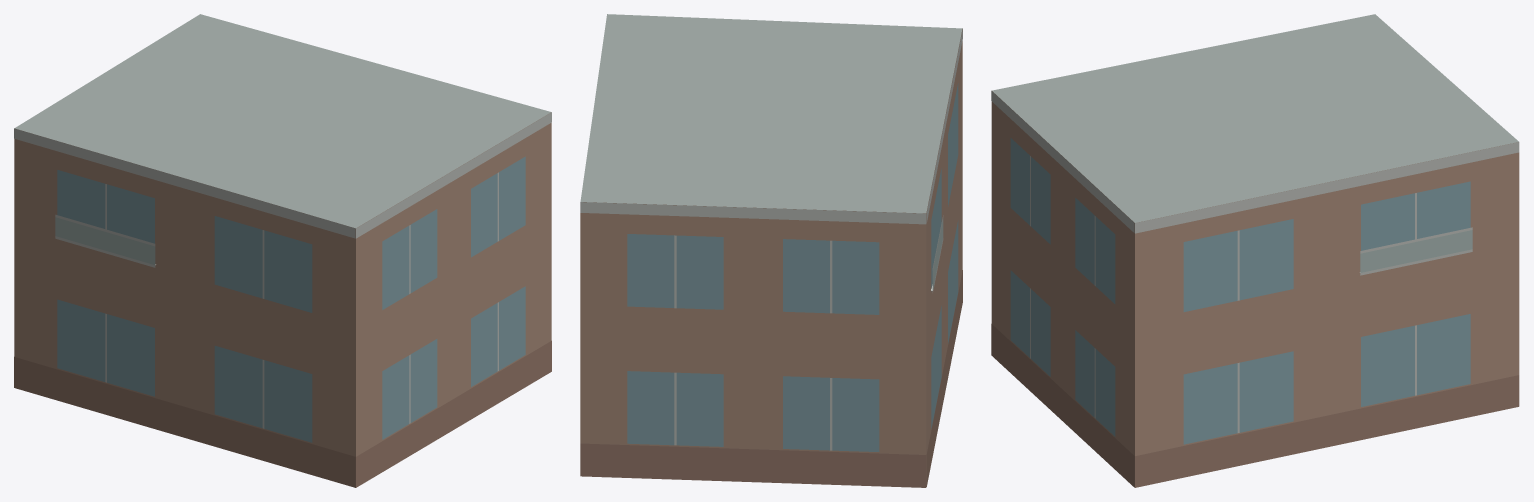
The model's file is survey-upis-32595949.glb.
The picture shows the model from 3 angles, left to right: view 1: azimuth 30°, elevation 25°; view 2: azimuth 150°, elevation 25°; view 3: azimuth 270°, elevation 25°; orthographic projection. The views are drawn at different scales.
Parts seen in each view (by area): view 1: survey-upis-32595949.tmp; view 2: survey-upis-32595949.tmp; view 3: survey-upis-32595949.tmp.
Part boxes in pixels (x1,y1,x2,y2): survey-upis-32595949.tmp: [14, 14, 551, 487]; survey-upis-32595949.tmp: [580, 14, 962, 487]; survey-upis-32595949.tmp: [991, 14, 1519, 487].
Size of the model in its own units: 10.33 by 6.1 by 11.02.
